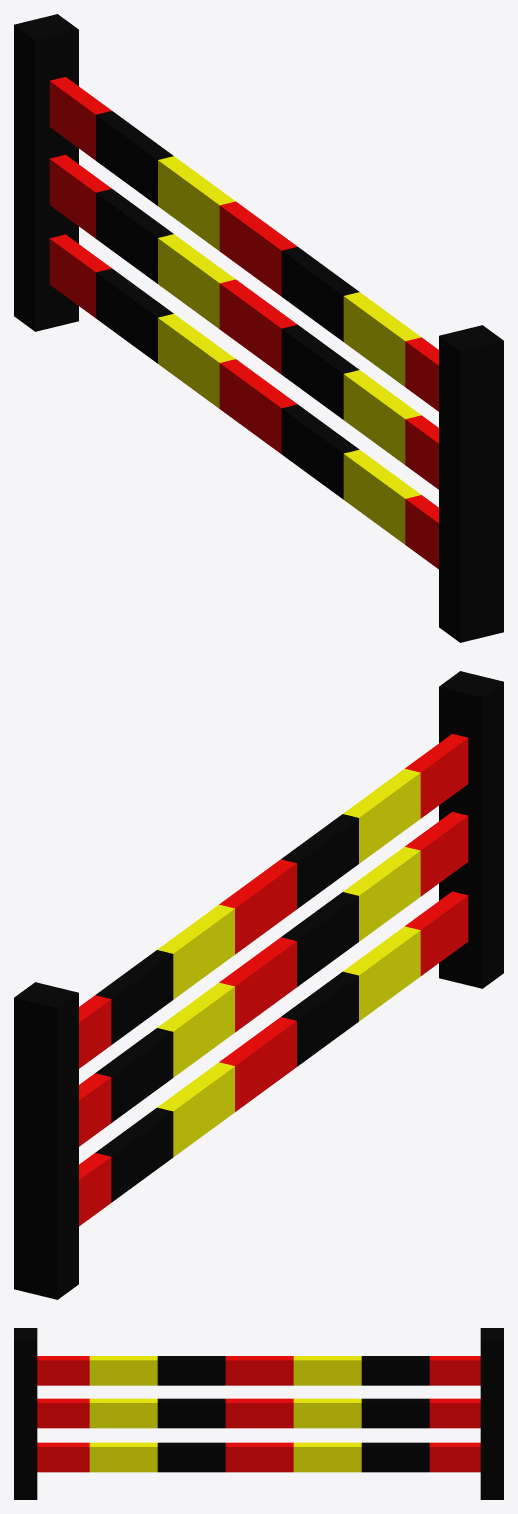
File: barrier3.FBX
The picture shows the model from 3 angles, top to bottom: view 1: azimuth 30°, elevation 25°; view 2: azimuth 150°, elevation 25°; view 3: azimuth 270°, elevation 25°; orthographic projection. The views are drawn at different scales.
Parts seen in each view (by area): view 1: Box004; view 2: Box004; view 3: Box004.
Part boxes in pixels (bbox=[...]): Box004: bbox=[14, 14, 503, 642]; Box004: bbox=[14, 671, 503, 1299]; Box004: bbox=[14, 1328, 503, 1499].
Size of the model in its own units: 5.06 by 32.25 by 89.48.
